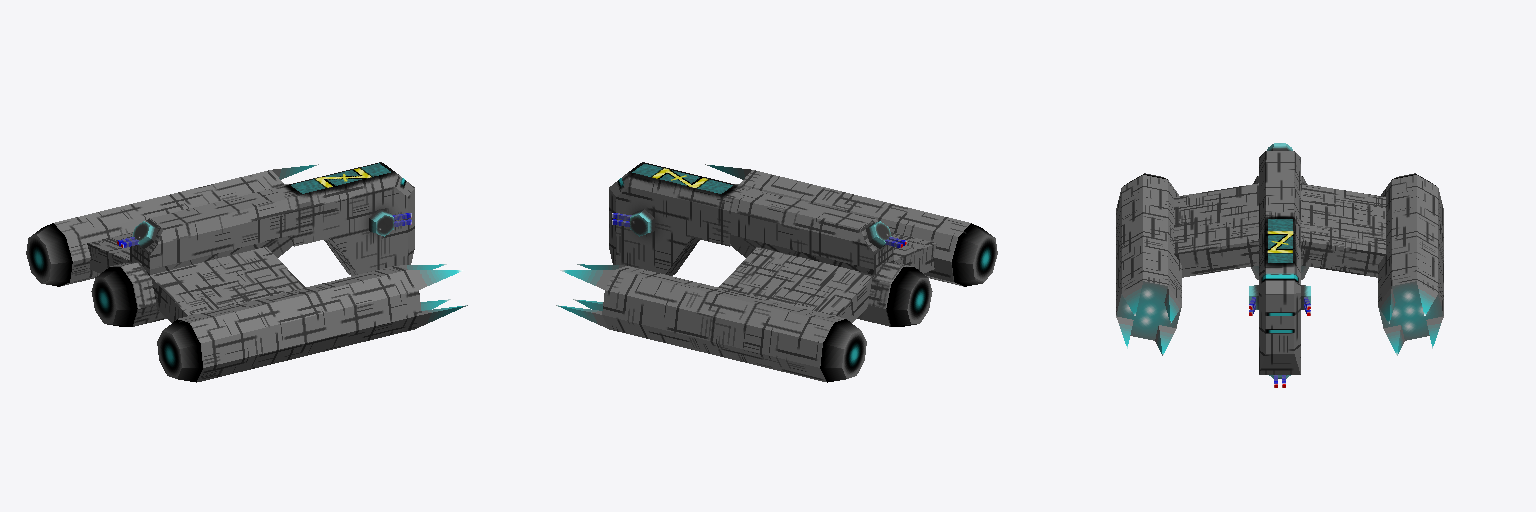
The picture shows the model from 3 angles: view 1: azimuth 30°, elevation 25°; view 2: azimuth 150°, elevation 25°; view 3: azimuth 270°, elevation 25°; orthographic projection.
Parts seen in each view (by area): view 1: Dreadknight; view 2: Dreadknight; view 3: Dreadknight.
Part boxes in pixels (x1,y1,x2,y2): Dreadknight: (26, 162, 467, 382); Dreadknight: (556, 162, 997, 382); Dreadknight: (1116, 143, 1443, 387).
Bounding box in the file's own units: 30.37 × 11.33 × 28.38.
1 materials, 1 textured.